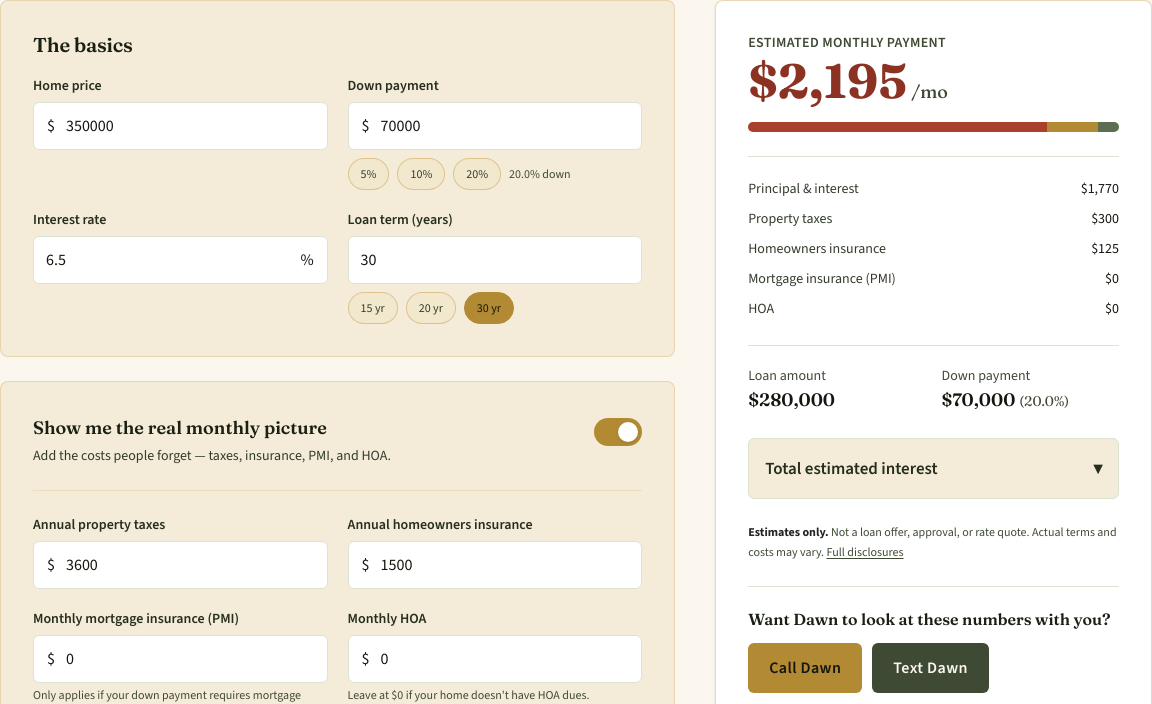
Test case: HomePaymentCalculator › a loan term preset chip updates the term used in the results
Click the button "15 yr": (373, 308) [348,292,398,324]
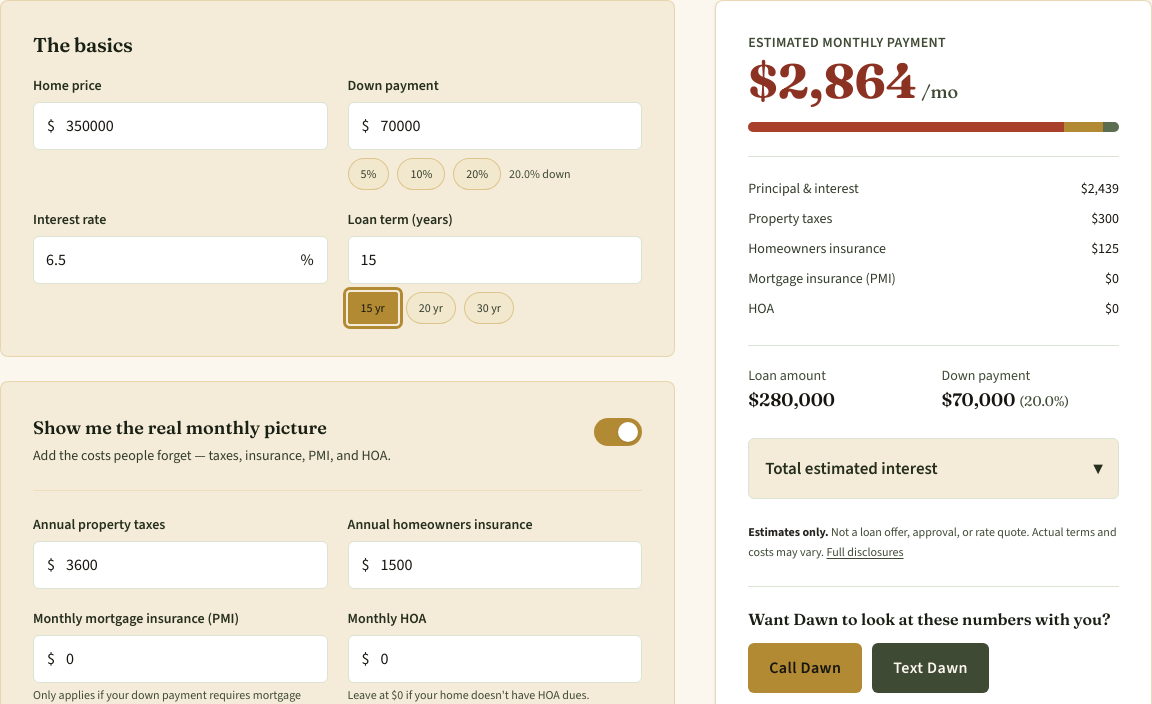
Result: the number field labelled "Loan term (years)" holds "15" at [348,236,642,284]
